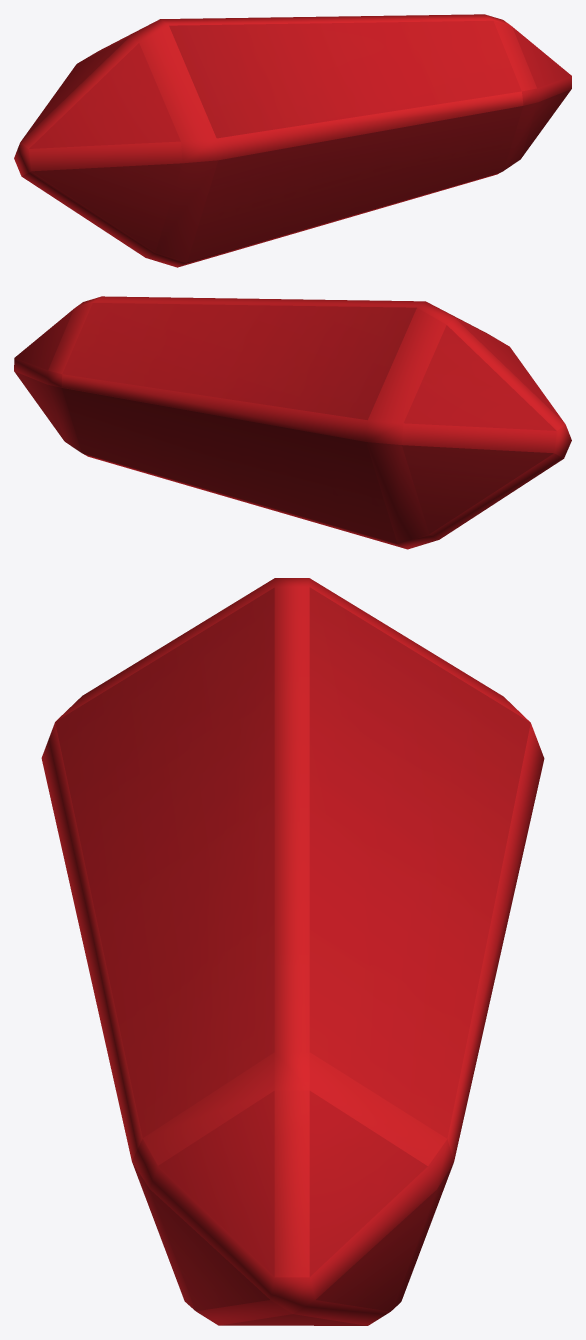
Rendered from christal_ruby_2.fbx.
The picture shows the model from 3 angles, top to bottom: view 1: azimuth 30°, elevation 25°; view 2: azimuth 150°, elevation 25°; view 3: azimuth 270°, elevation 25°; orthographic projection. The views are drawn at different scales.
Visible parts, largest first — view 1: christal_ruby_2; view 2: christal_ruby_2; view 3: christal_ruby_2.
Part boxes in pixels (bbox=[...]): christal_ruby_2: bbox=[14, 14, 571, 267]; christal_ruby_2: bbox=[14, 296, 571, 549]; christal_ruby_2: bbox=[41, 578, 544, 1325].
Bounding box in the file's own units: 86.4 × 32.67 × 34.49.
Materials: 1 (1 with a texture image).
